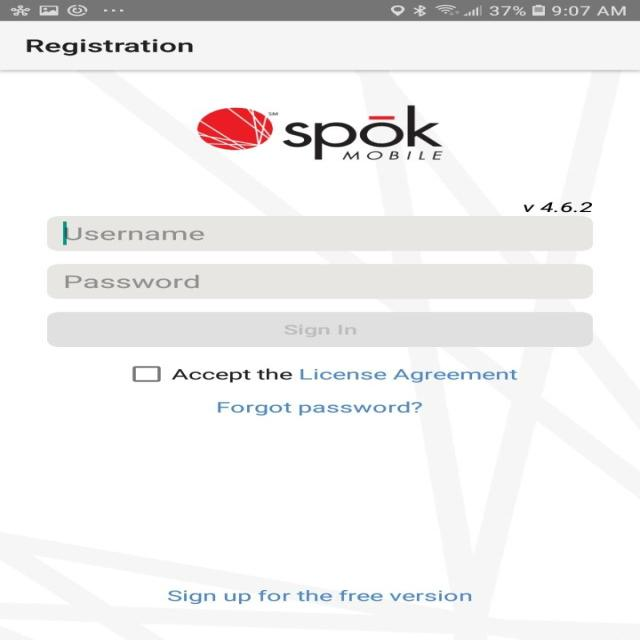BackgroundImage: (0, 70, 639, 640)
EditText: (46, 215, 592, 251), (46, 263, 592, 299)
Image: (196, 104, 444, 160)
Text: (169, 368, 516, 382), (167, 589, 471, 604), (216, 401, 422, 416), (26, 38, 194, 56), (65, 274, 199, 289), (65, 230, 204, 240), (522, 202, 592, 212)
TextButton: (47, 312, 593, 347)
